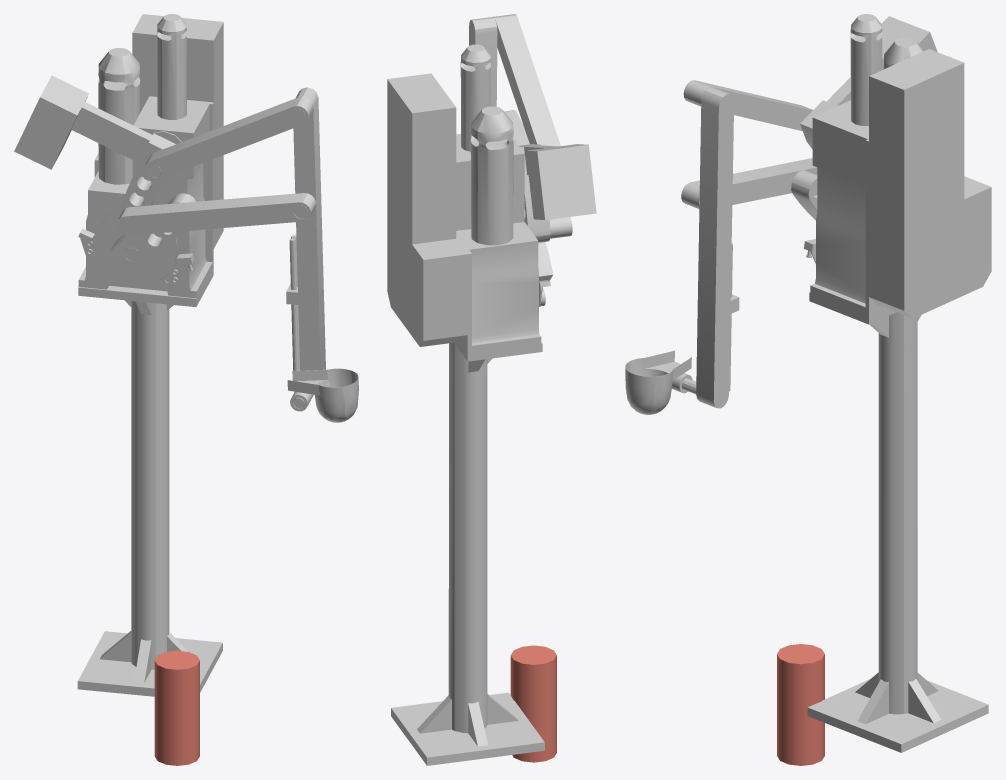
3 renders of one model, left to right at view 1: azimuth 30°, elevation 25°; view 2: azimuth 150°, elevation 25°; view 3: azimuth 270°, elevation 25°, orthographic. The views are drawn at different scales.
Parts seen in each view (by area): view 1: N_2620, N_2528, N_1664, visualJoint, N_1348; view 2: N_2620, N_2528, visualJoint, N_1348, N_1664; view 3: N_2620, N_1664, visualJoint, N_2528, N_1348.
Boxes of the visible parts, box(x1,y1,x2,y2) form: N_2620: box(77, 14, 223, 696); N_2528: box(14, 75, 315, 235); N_1664: box(286, 87, 358, 422); visualJoint: box(154, 650, 199, 765); N_1348: box(143, 96, 313, 180); N_2620: box(387, 44, 553, 765); N_2528: box(504, 110, 596, 242); visualJoint: box(510, 645, 556, 762); N_1348: box(493, 14, 560, 146); N_1664: box(469, 17, 545, 306); N_2620: box(791, 14, 991, 752); N_1664: box(625, 87, 739, 414); visualJoint: box(777, 644, 824, 765); N_2528: box(681, 16, 937, 208); N_1348: box(683, 80, 812, 130).
Size of the model in its own units: 1.68 by 5.17 by 2.29.
